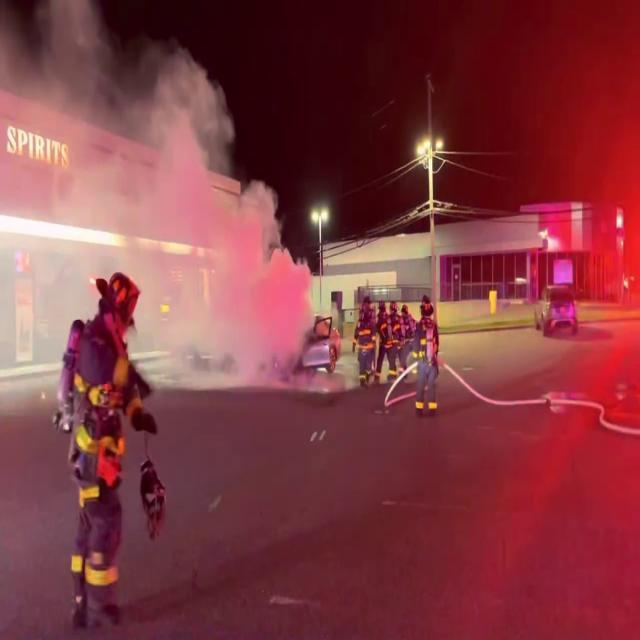Smoke: (8, 4, 300, 374)
